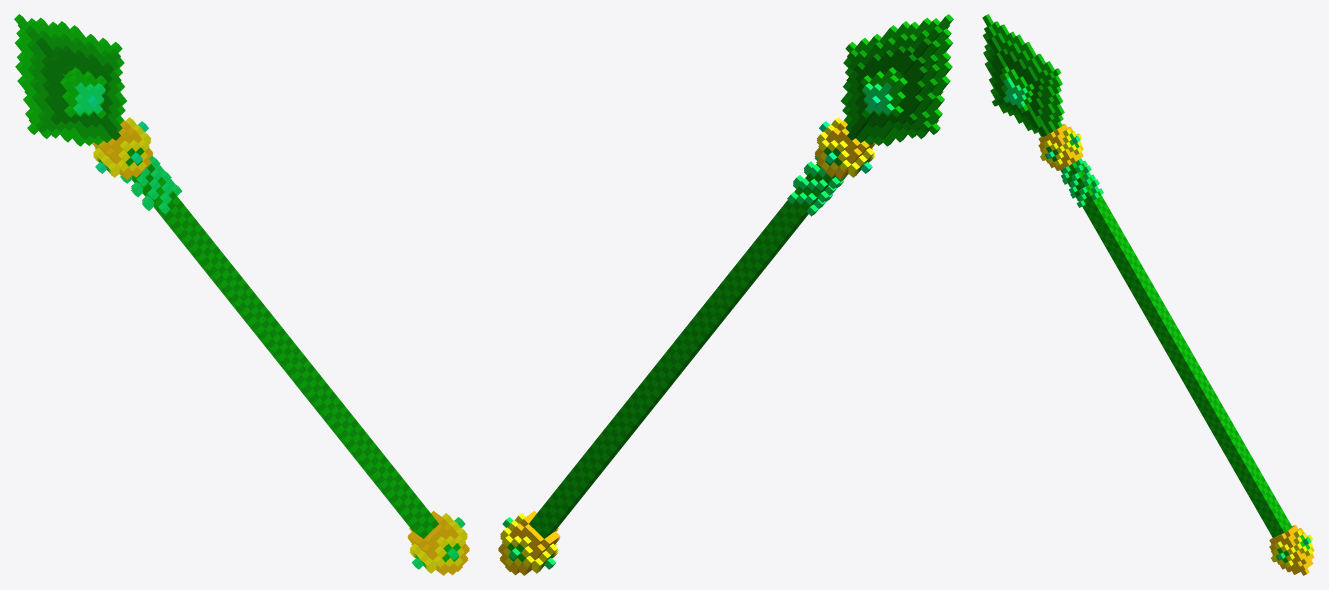
Rendered from spear-lv3.glb.
The picture shows the model from 3 angles, left to right: view 1: azimuth 30°, elevation 25°; view 2: azimuth 150°, elevation 25°; view 3: azimuth 330°, elevation 25°; orthographic projection. The views are drawn at different scales.
Visible parts, largest first — view 1: spear lv3; view 2: spear lv3; view 3: spear lv3.
Boxes of the visible parts, x1=… form: spear lv3: x1=14, y1=14, x2=469, y2=575; spear lv3: x1=498, y1=14, x2=953, y2=575; spear lv3: x1=982, y1=14, x2=1314, y2=575.
Size of the model in its own units: 0.7359 by 1.03 by 0.1141.
Materials: 1 (1 with a texture image).
